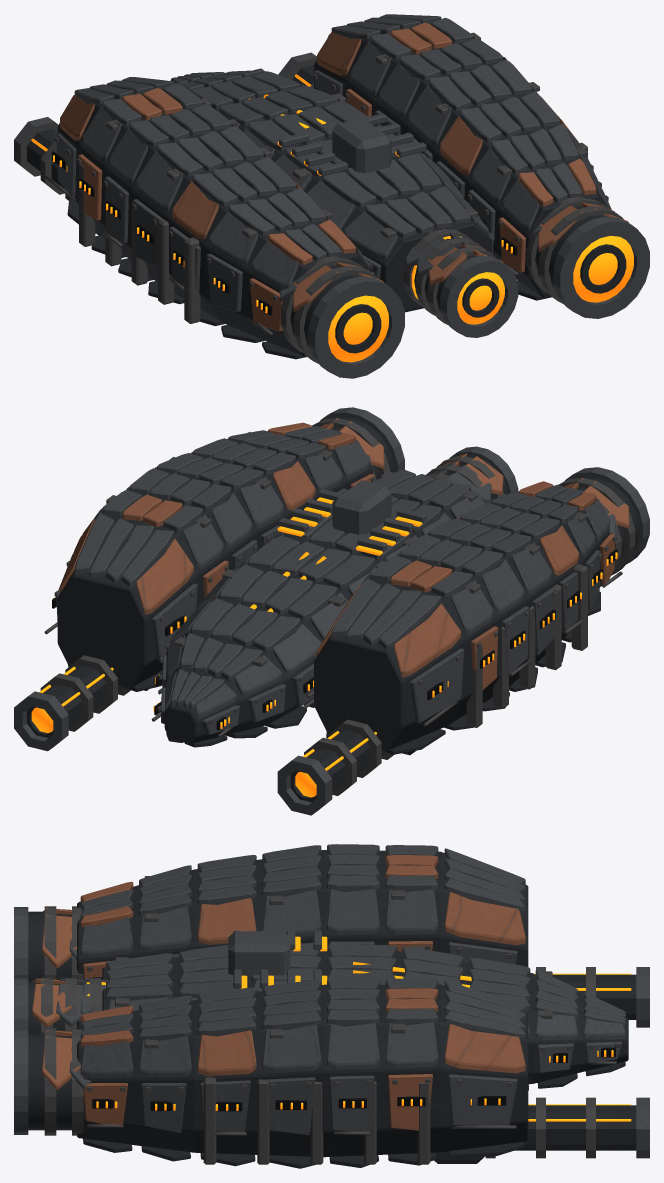
The model's file is bulwark.glb.
3 views of the same model, one above another, from view 1: azimuth 30°, elevation 25°; view 2: azimuth 150°, elevation 25°; view 3: azimuth 270°, elevation 25° (orthographic).
Visible parts, largest first — view 1: Bulwark.001; view 2: Bulwark.001; view 3: Bulwark.001.
Boxes of the visible parts, bbox=[...] form: Bulwark.001: bbox=[14, 14, 649, 378]; Bulwark.001: bbox=[14, 407, 649, 815]; Bulwark.001: bbox=[14, 844, 649, 1168].
Size of the model in its own units: 7.08 by 2.55 by 9.35.
Materials: 6 (6 with a texture image).
